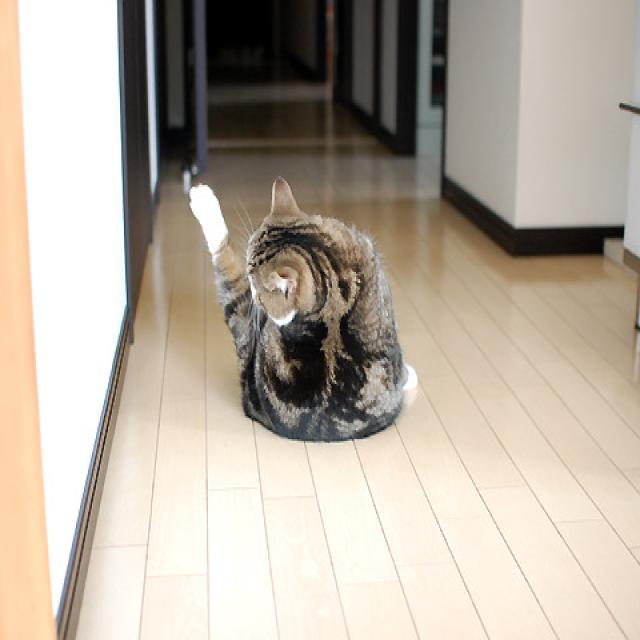cat: (172, 164, 466, 481)
